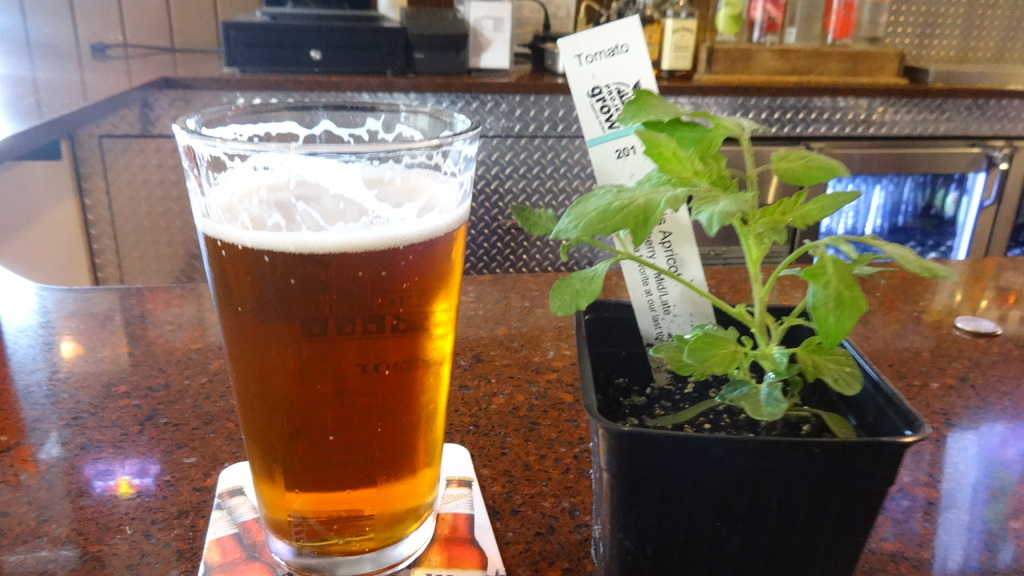Beer: (199, 162, 471, 560)
